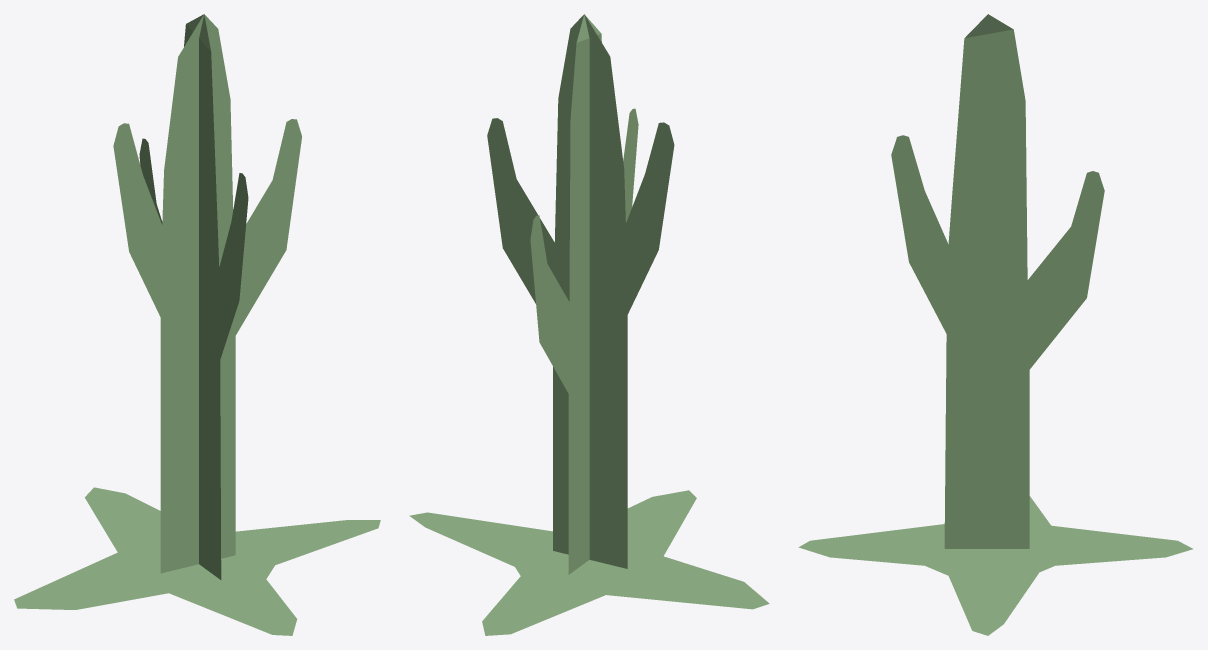
File: cac2.glb
3 views of the same model, side by side, from view 1: azimuth 30°, elevation 25°; view 2: azimuth 150°, elevation 25°; view 3: azimuth 270°, elevation 25° (orthographic). The views are drawn at different scales.
Visible parts, largest first — view 1: cac2; view 2: cac2; view 3: cac2.
Boxes of the visible parts, x1=… form: cac2: x1=14, y1=14, x2=380, y2=635; cac2: x1=409, y1=14, x2=769, y2=635; cac2: x1=798, y1=14, x2=1192, y2=635.
Bounding box in the file's own units: 2.08 × 3 × 2.
